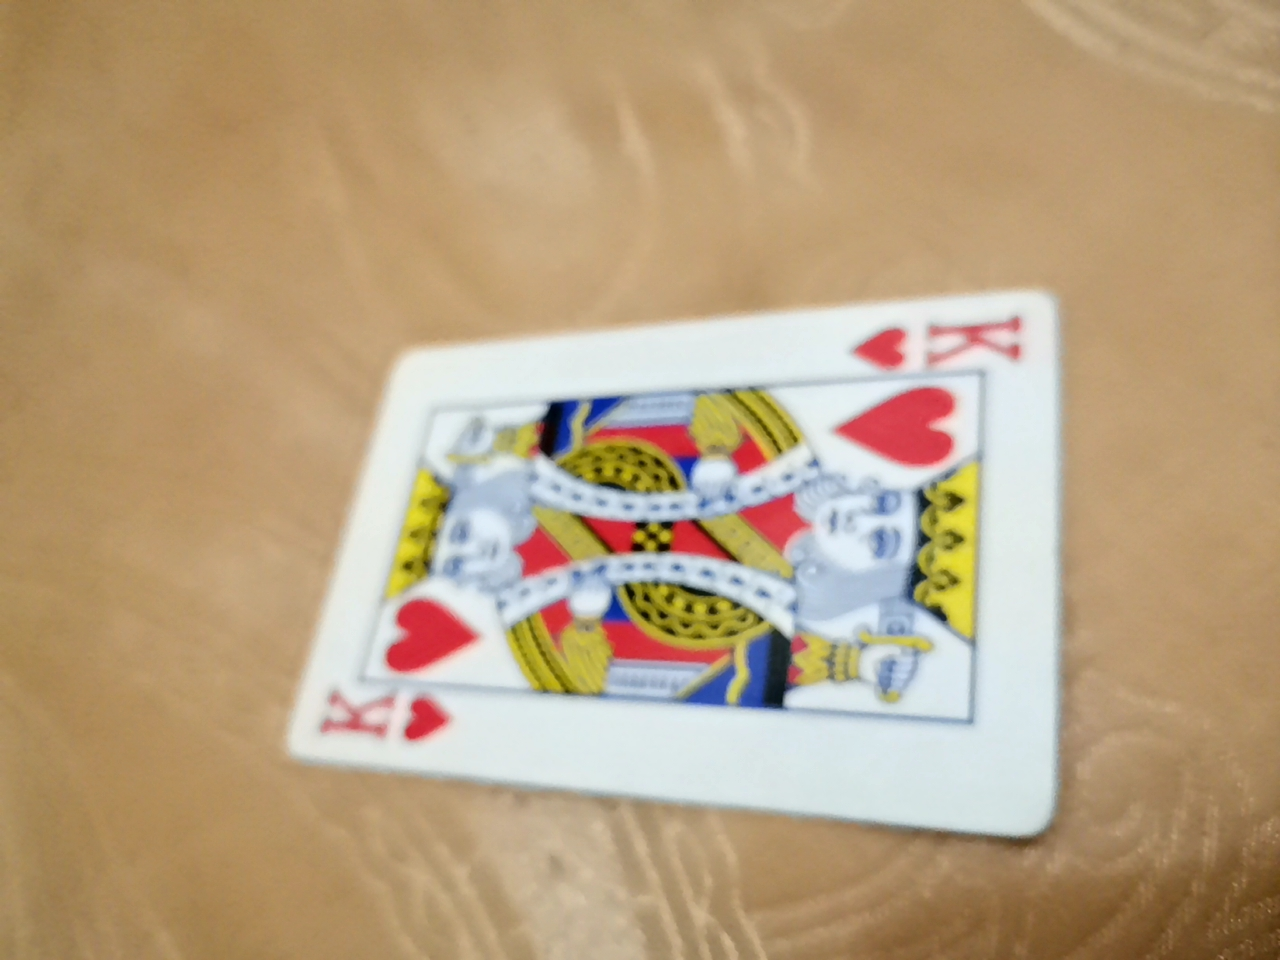hx k: (151, 283, 999, 879)
